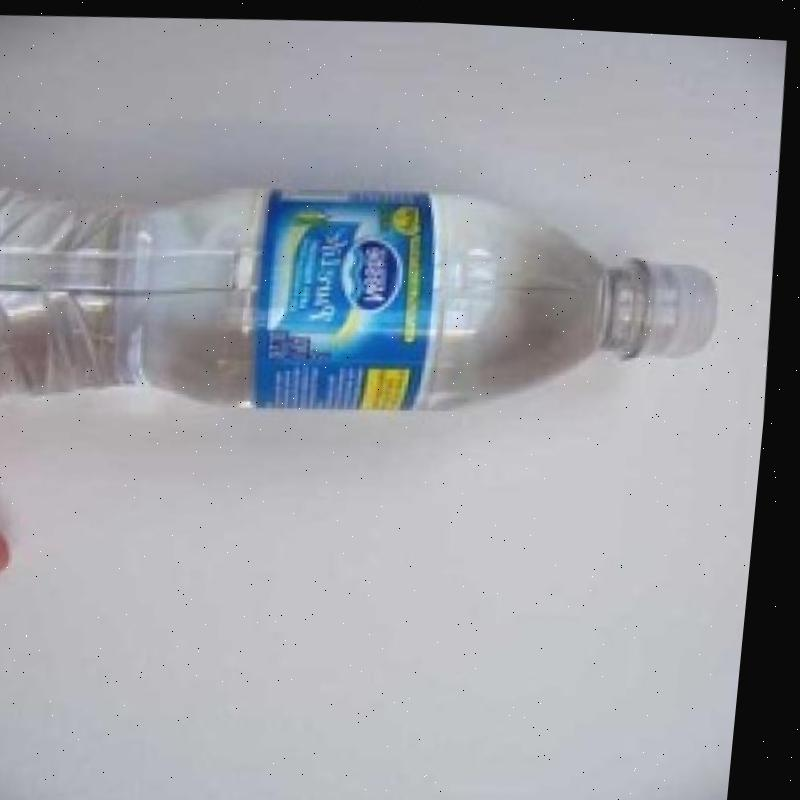botella: (0, 143, 738, 441)
